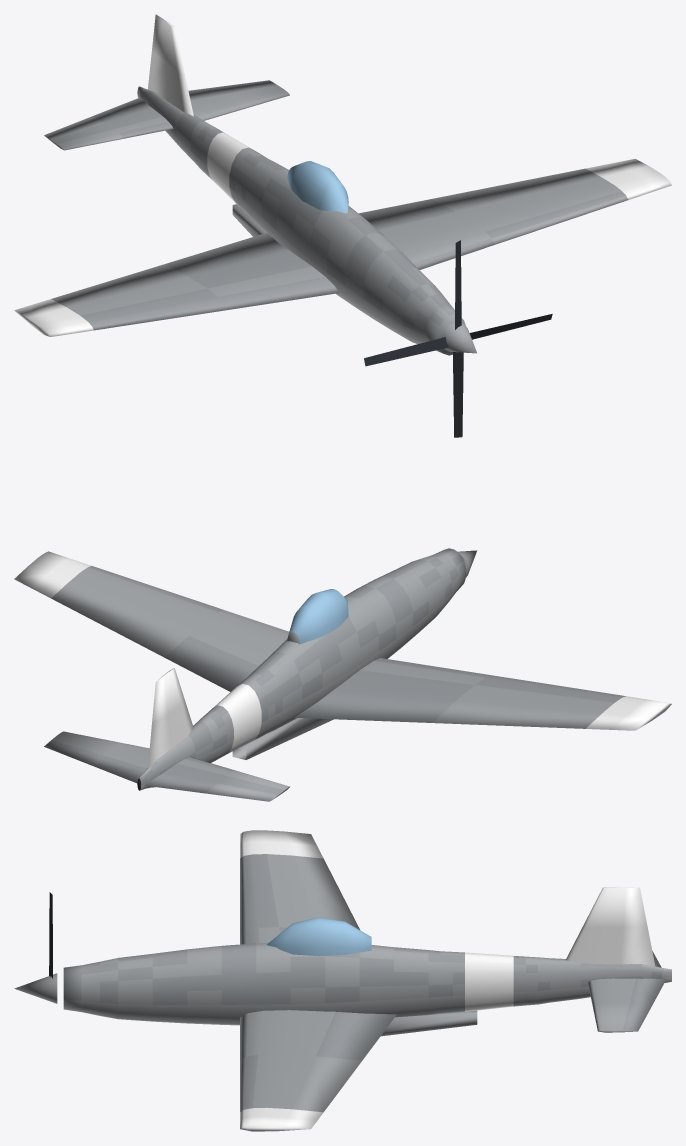
3 renders of one model, top to bottom at view 1: azimuth 30°, elevation 25°; view 2: azimuth 150°, elevation 25°; view 3: azimuth 270°, elevation 25°, orthographic. The views are drawn at different scales.
Visible parts, largest first — view 1: body, prop; view 2: body; view 3: body, prop.
Boxes of the visible parts, x1,y1,x2,y2 form: body: [14, 14, 671, 355]; prop: [364, 240, 552, 437]; body: [14, 548, 671, 801]; body: [63, 830, 671, 1131]; prop: [14, 892, 57, 1003].
Size of the model in its own units: 11.28 by 3.5 by 10.63.
